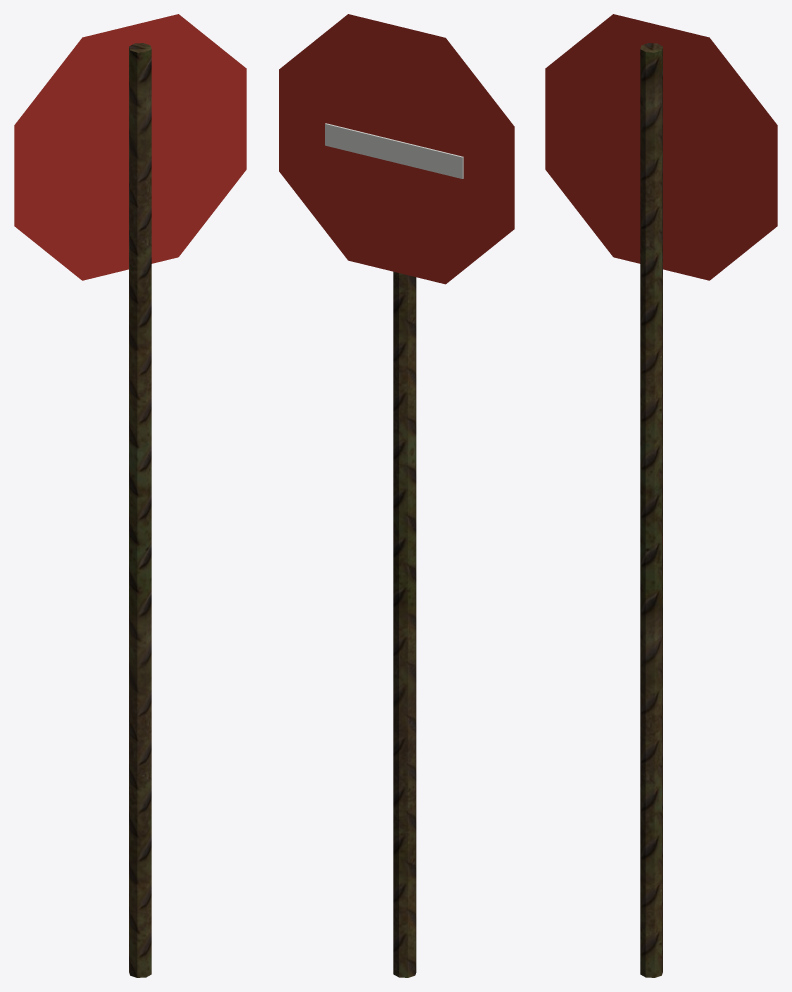
File: prop_sign_stop.gltf
The picture shows the model from 3 angles, left to right: view 1: azimuth 30°, elevation 25°; view 2: azimuth 150°, elevation 25°; view 3: azimuth 330°, elevation 25°; orthographic projection.
Parts seen in each view (by area): view 1: prop_sign_stop; view 2: prop_sign_stop; view 3: prop_sign_stop.
Part boxes in pixels (x1,y1,x2,y2): prop_sign_stop: (14, 14, 246, 977); prop_sign_stop: (279, 14, 514, 977); prop_sign_stop: (545, 14, 777, 977).
Size of what is drawn, in the model's own units: 0.6837 by 2.64 by 0.086.
3 materials, 1 textured.
